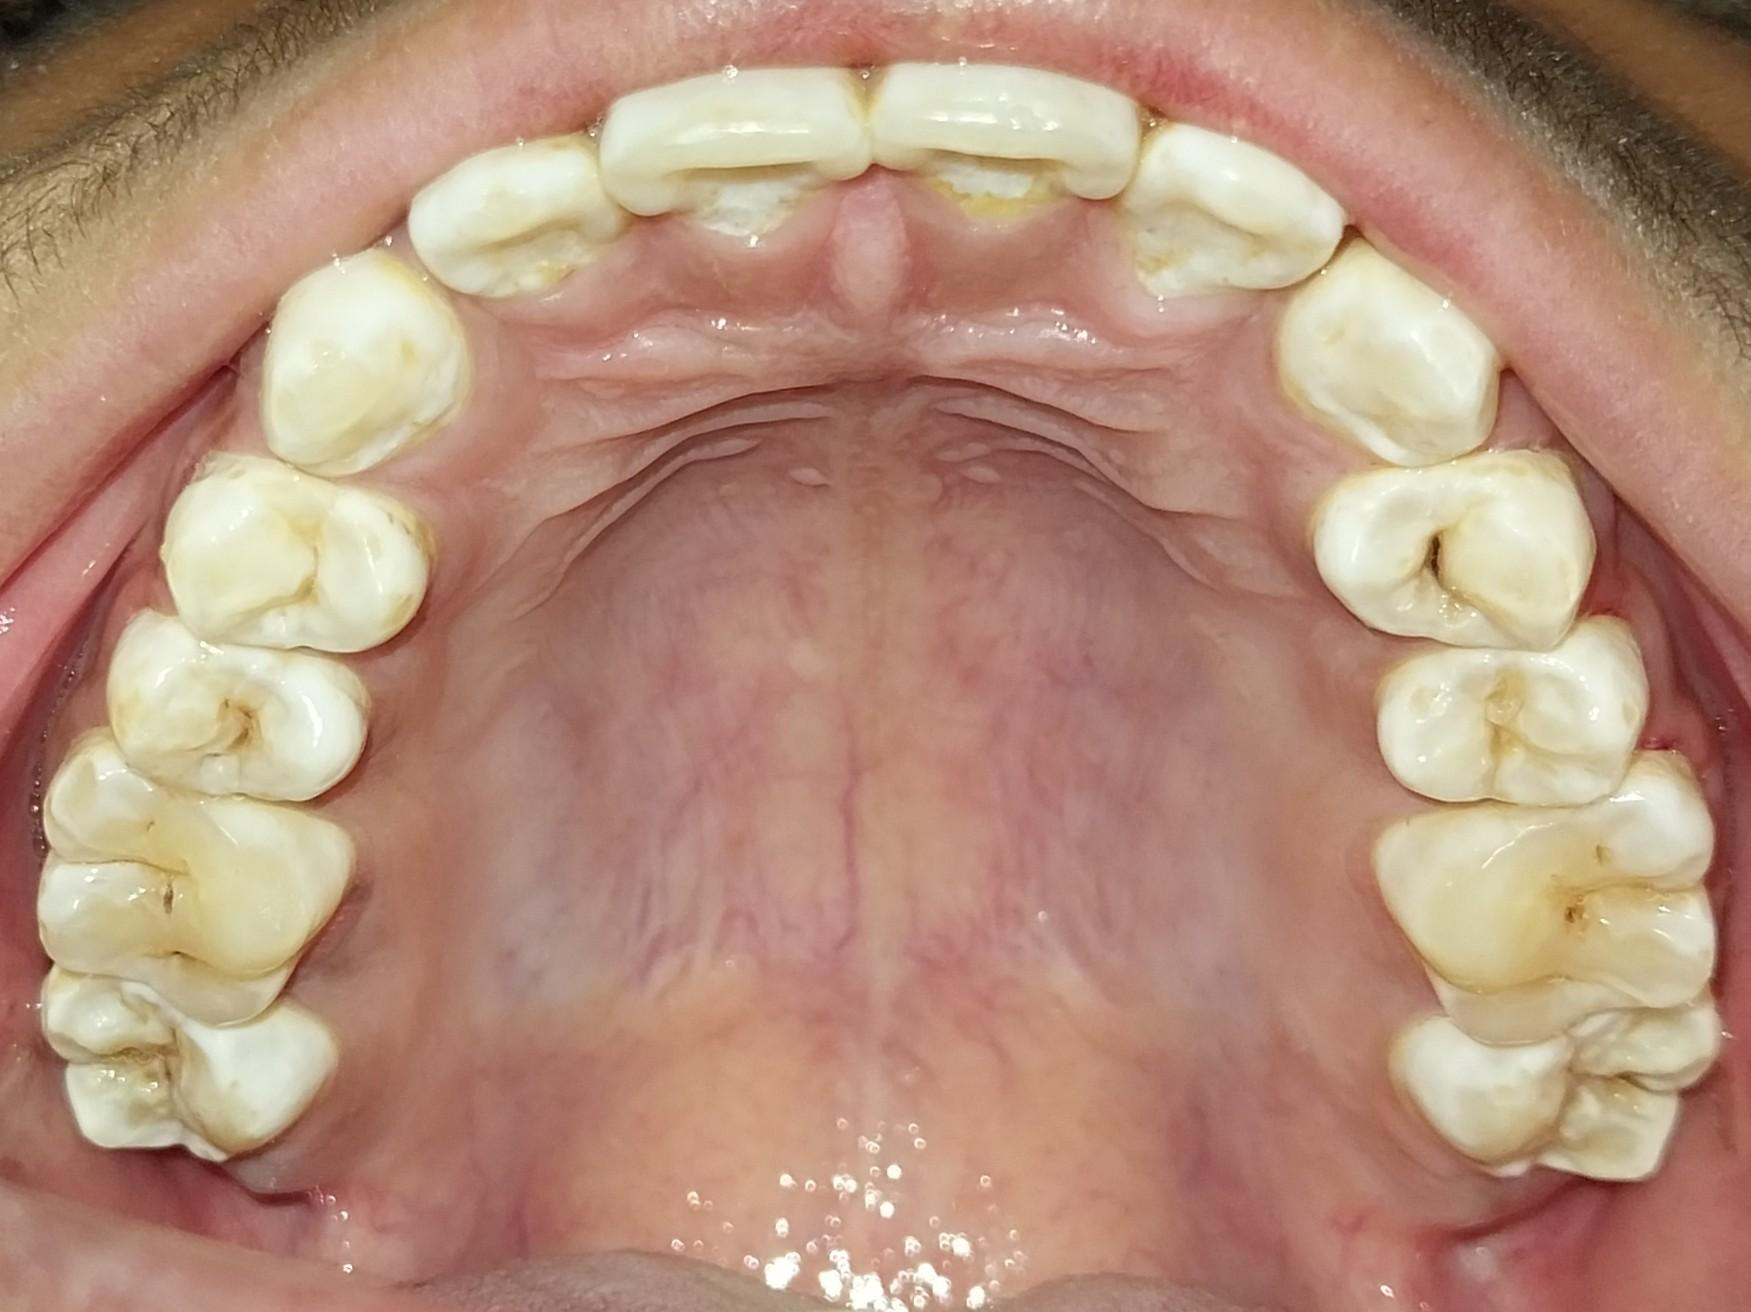D: (33, 747, 342, 1035), (1320, 457, 1596, 654)
